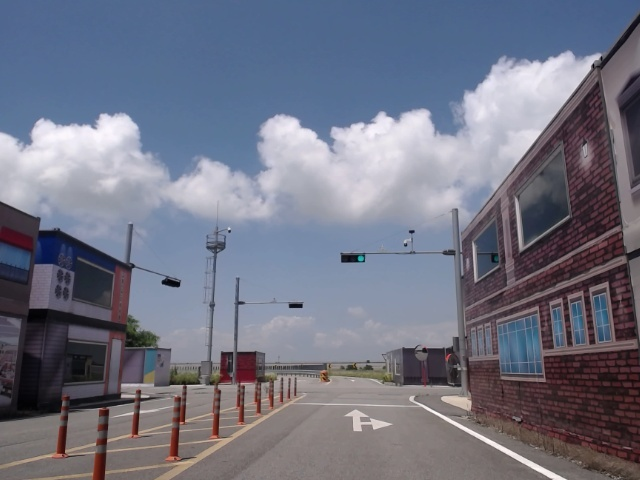green_3: (342, 255, 364, 262)
